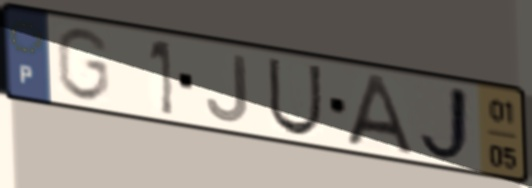1: (145, 37, 177, 118)
A: (344, 72, 416, 157)
G: (53, 25, 113, 105)
J: (415, 82, 477, 166), (203, 52, 252, 125)
U: (264, 54, 324, 138)
